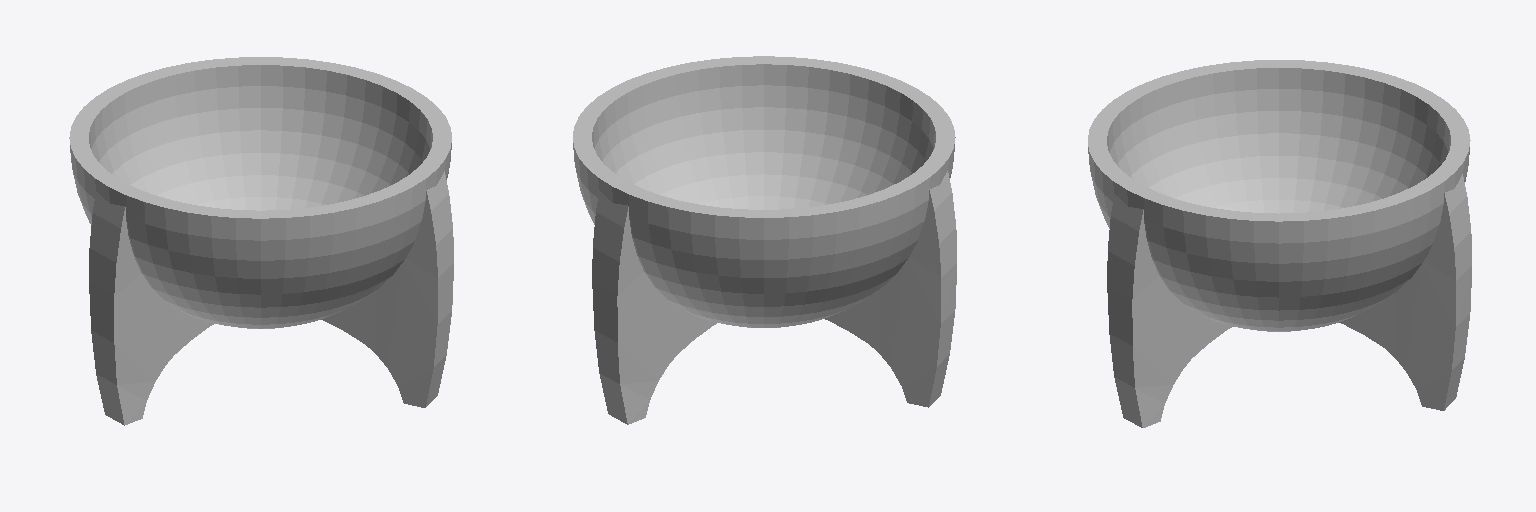
The model's file is holder.obj.
3 renders of one model, left to right at view 1: azimuth 30°, elevation 25°; view 2: azimuth 150°, elevation 25°; view 3: azimuth 270°, elevation 25°, orthographic.
Visible parts, largest first — view 1: holder_Eggrocket2; view 2: holder_Eggrocket2; view 3: holder_Eggrocket2.
Part boxes in pixels (x1,y1,x2,y2): holder_Eggrocket2: (69, 57, 453, 425); holder_Eggrocket2: (573, 56, 956, 424); holder_Eggrocket2: (1088, 60, 1471, 427).
Size of the model in its own units: 0.3468 by 0.2287 by 0.3395.